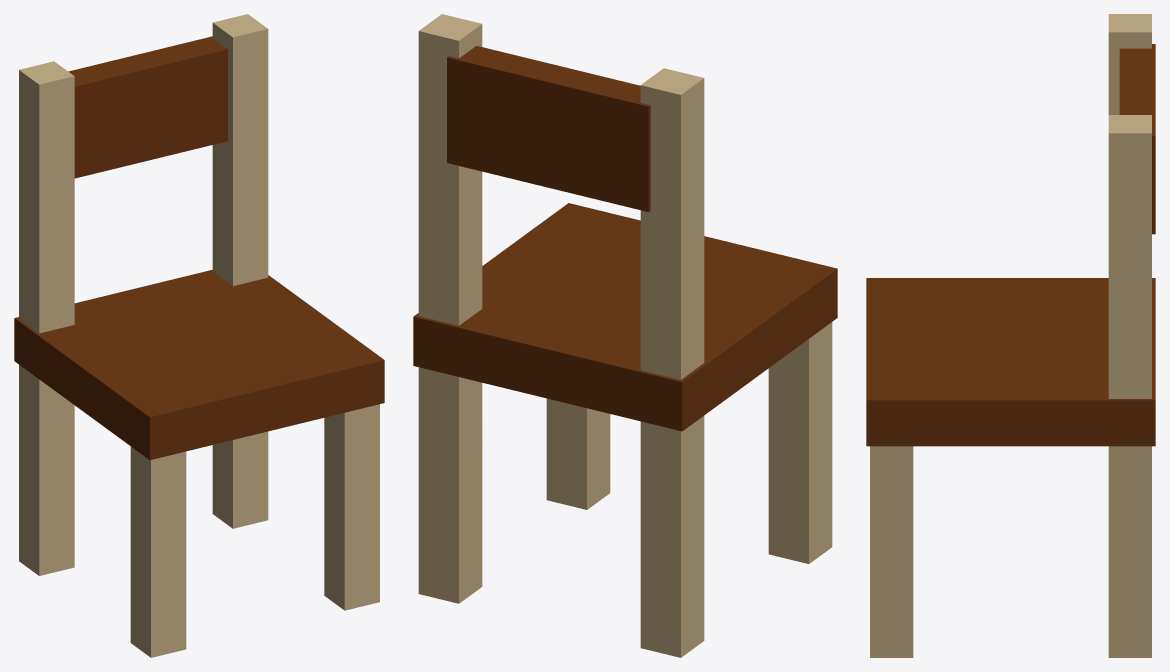
The model's file is chair2_wood.glb.
3 views of the same model, side by side, from view 1: azimuth 30°, elevation 25°; view 2: azimuth 150°, elevation 25°; view 3: azimuth 270°, elevation 25° (orthographic). The views are drawn at different scales.
Visible parts, largest first — view 1: Box006; view 2: Box006; view 3: Box006.
Boxes of the visible parts, x1,y1,x2,y2 form: Box006: (14,14,384,657); Box006: (413,14,837,657); Box006: (866,14,1155,657).
Size of the model in its own units: 0.08 by 0.16 by 0.08.
1 material, 1 textured.
